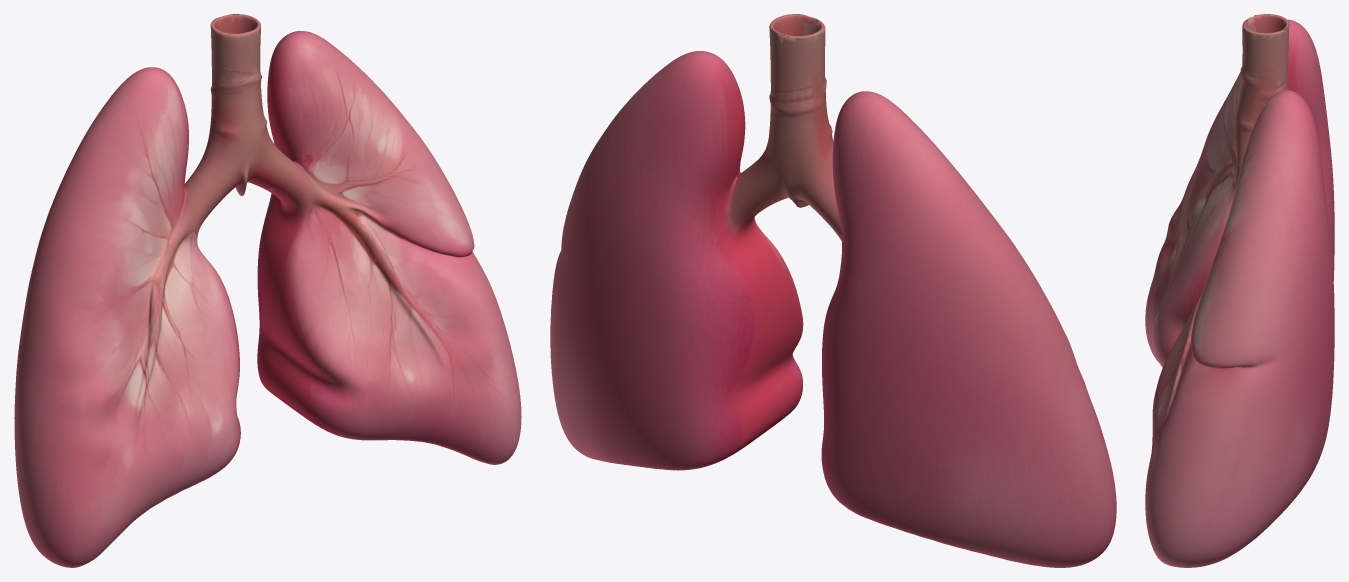
The model's file is rabbit_lungs.glb.
3 renders of one model, left to right at view 1: azimuth 30°, elevation 25°; view 2: azimuth 150°, elevation 25°; view 3: azimuth 270°, elevation 25°, orthographic. The views are drawn at different scales.
Visible parts, largest first — view 1: model; view 2: model; view 3: model.
Boxes of the visible parts, x1,y1,x2,y2 form: model: [14, 14, 521, 567]; model: [550, 14, 1116, 567]; model: [1145, 14, 1334, 567].
Size of the model in its own units: 1.9 by 1.71 by 0.668.
1 material, 1 textured.
